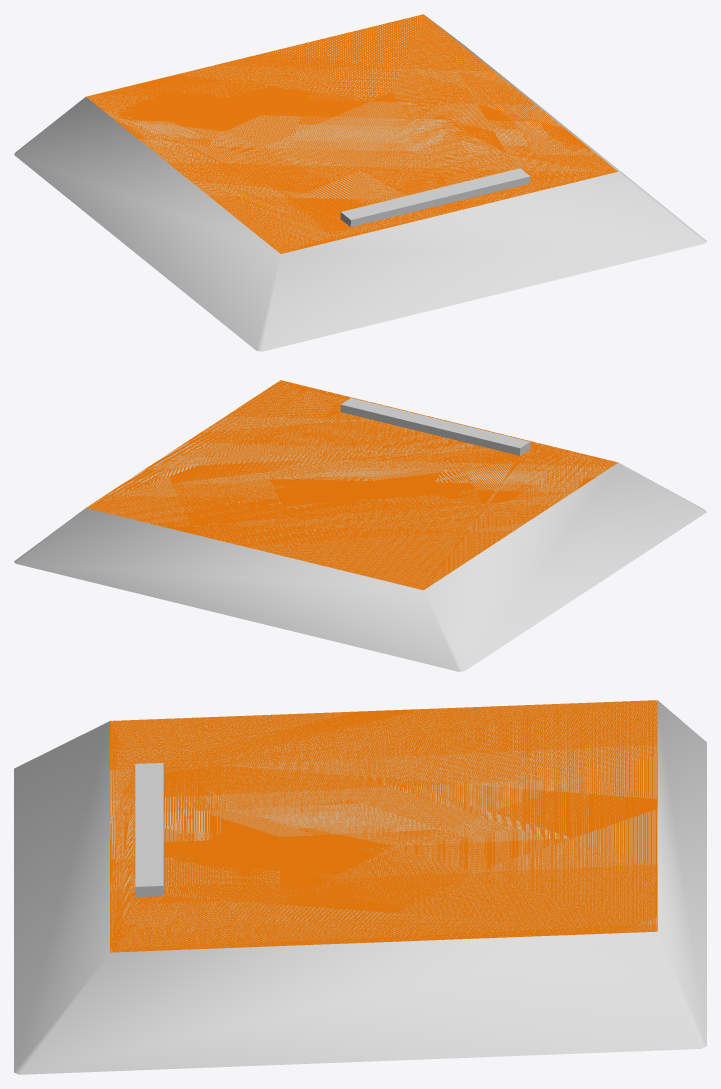
Rendered from original-13.obj.
3 renders of one model, top to bottom at view 1: azimuth 30°, elevation 25°; view 2: azimuth 150°, elevation 25°; view 3: azimuth 270°, elevation 25°, orthographic. The views are drawn at different scales.
Visible parts, largest first — view 1: Group13/mesh11/mesh11-geometry#mesh11-geometry; view 2: Group13/mesh11/mesh11-geometry#mesh11-geometry; view 3: Group13/mesh11/mesh11-geometry#mesh11-geometry.
Boxes of the visible parts, <box> form: Group13/mesh11/mesh11-geometry#mesh11-geometry: <box>14,14,706,351</box>; Group13/mesh11/mesh11-geometry#mesh11-geometry: <box>14,380,706,671</box>; Group13/mesh11/mesh11-geometry#mesh11-geometry: <box>14,700,706,1074</box>.
Size of the model in its own units: 0.0754 by 0.0119 by 0.0715.
